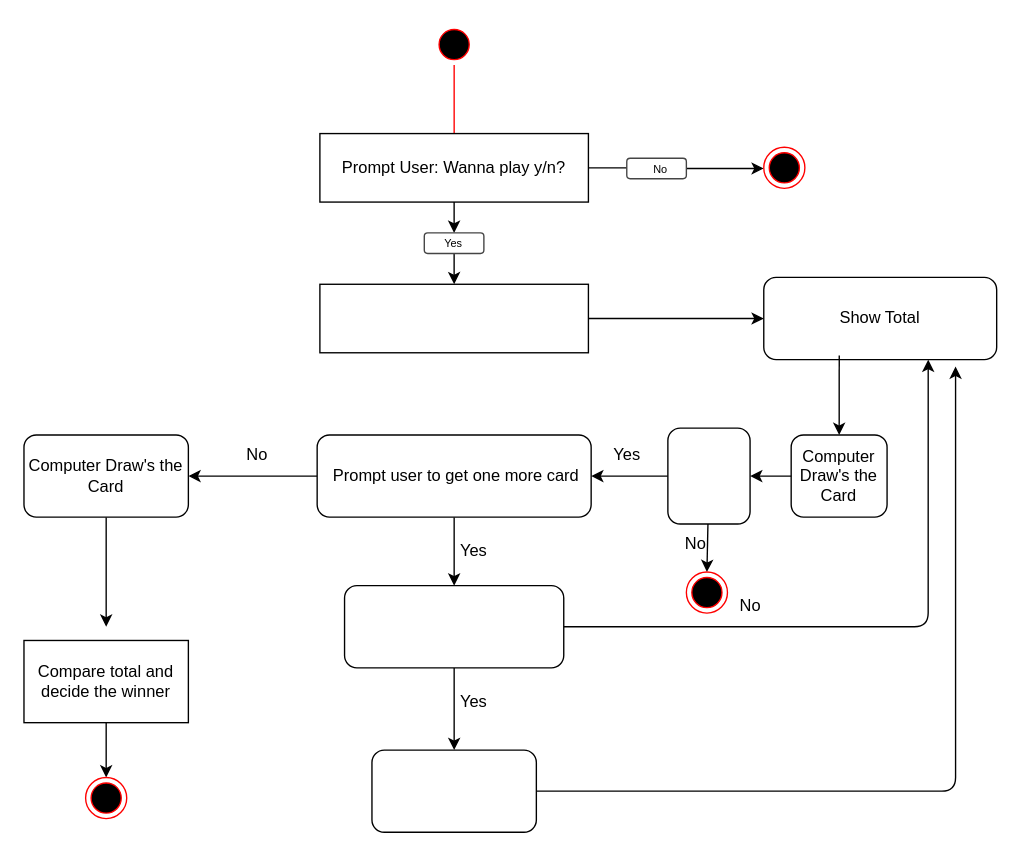
The diagram is 1021 pixels wide and 856 high, and some of its shapes have lost their labels. The shapes that lost their labels are listed below. From the top down, each one's box as (x1, y1, x2, y2) in pixels, then its label:
(319, 283, 588, 353): Select 2 random cards for user
(667, 427, 750, 524): Check computer's total, if total <= 21
(343, 584, 564, 668): Draw the card and check if the card is 11
(371, 749, 536, 832): Check if the total goes over 21, change the card to 1
